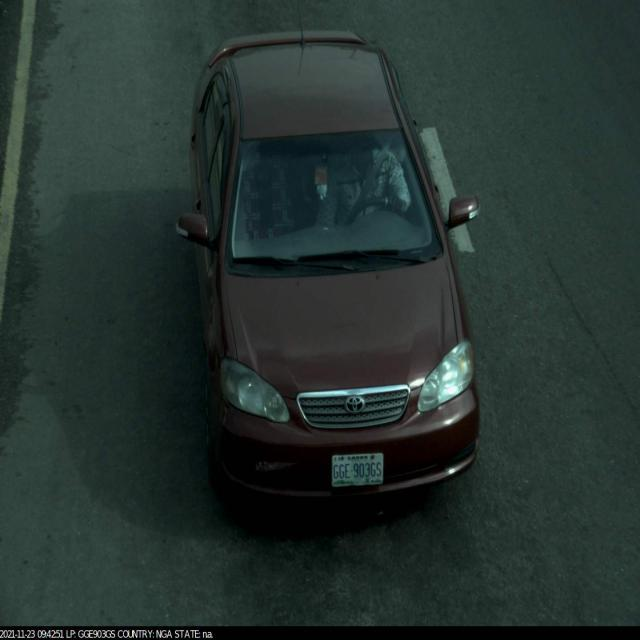windshield: (226, 122, 454, 281)
